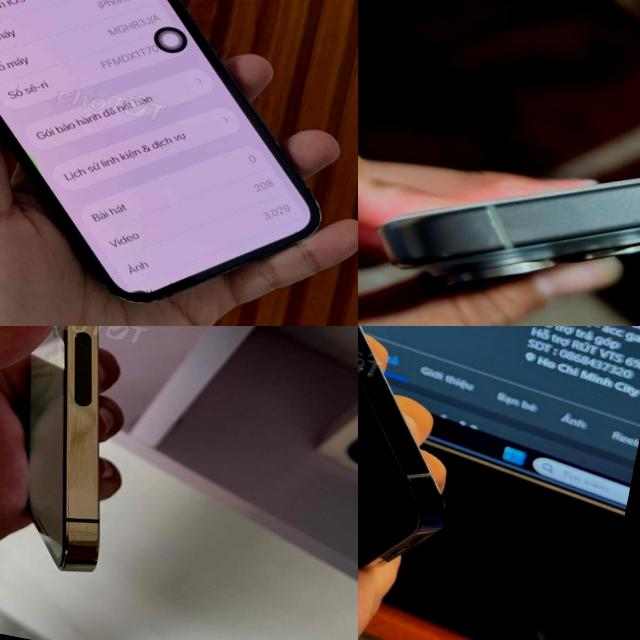gen_12_13: (0, 0, 358, 326), (0, 326, 214, 594), (358, 326, 517, 597)
gen_15: (363, 61, 640, 326)
